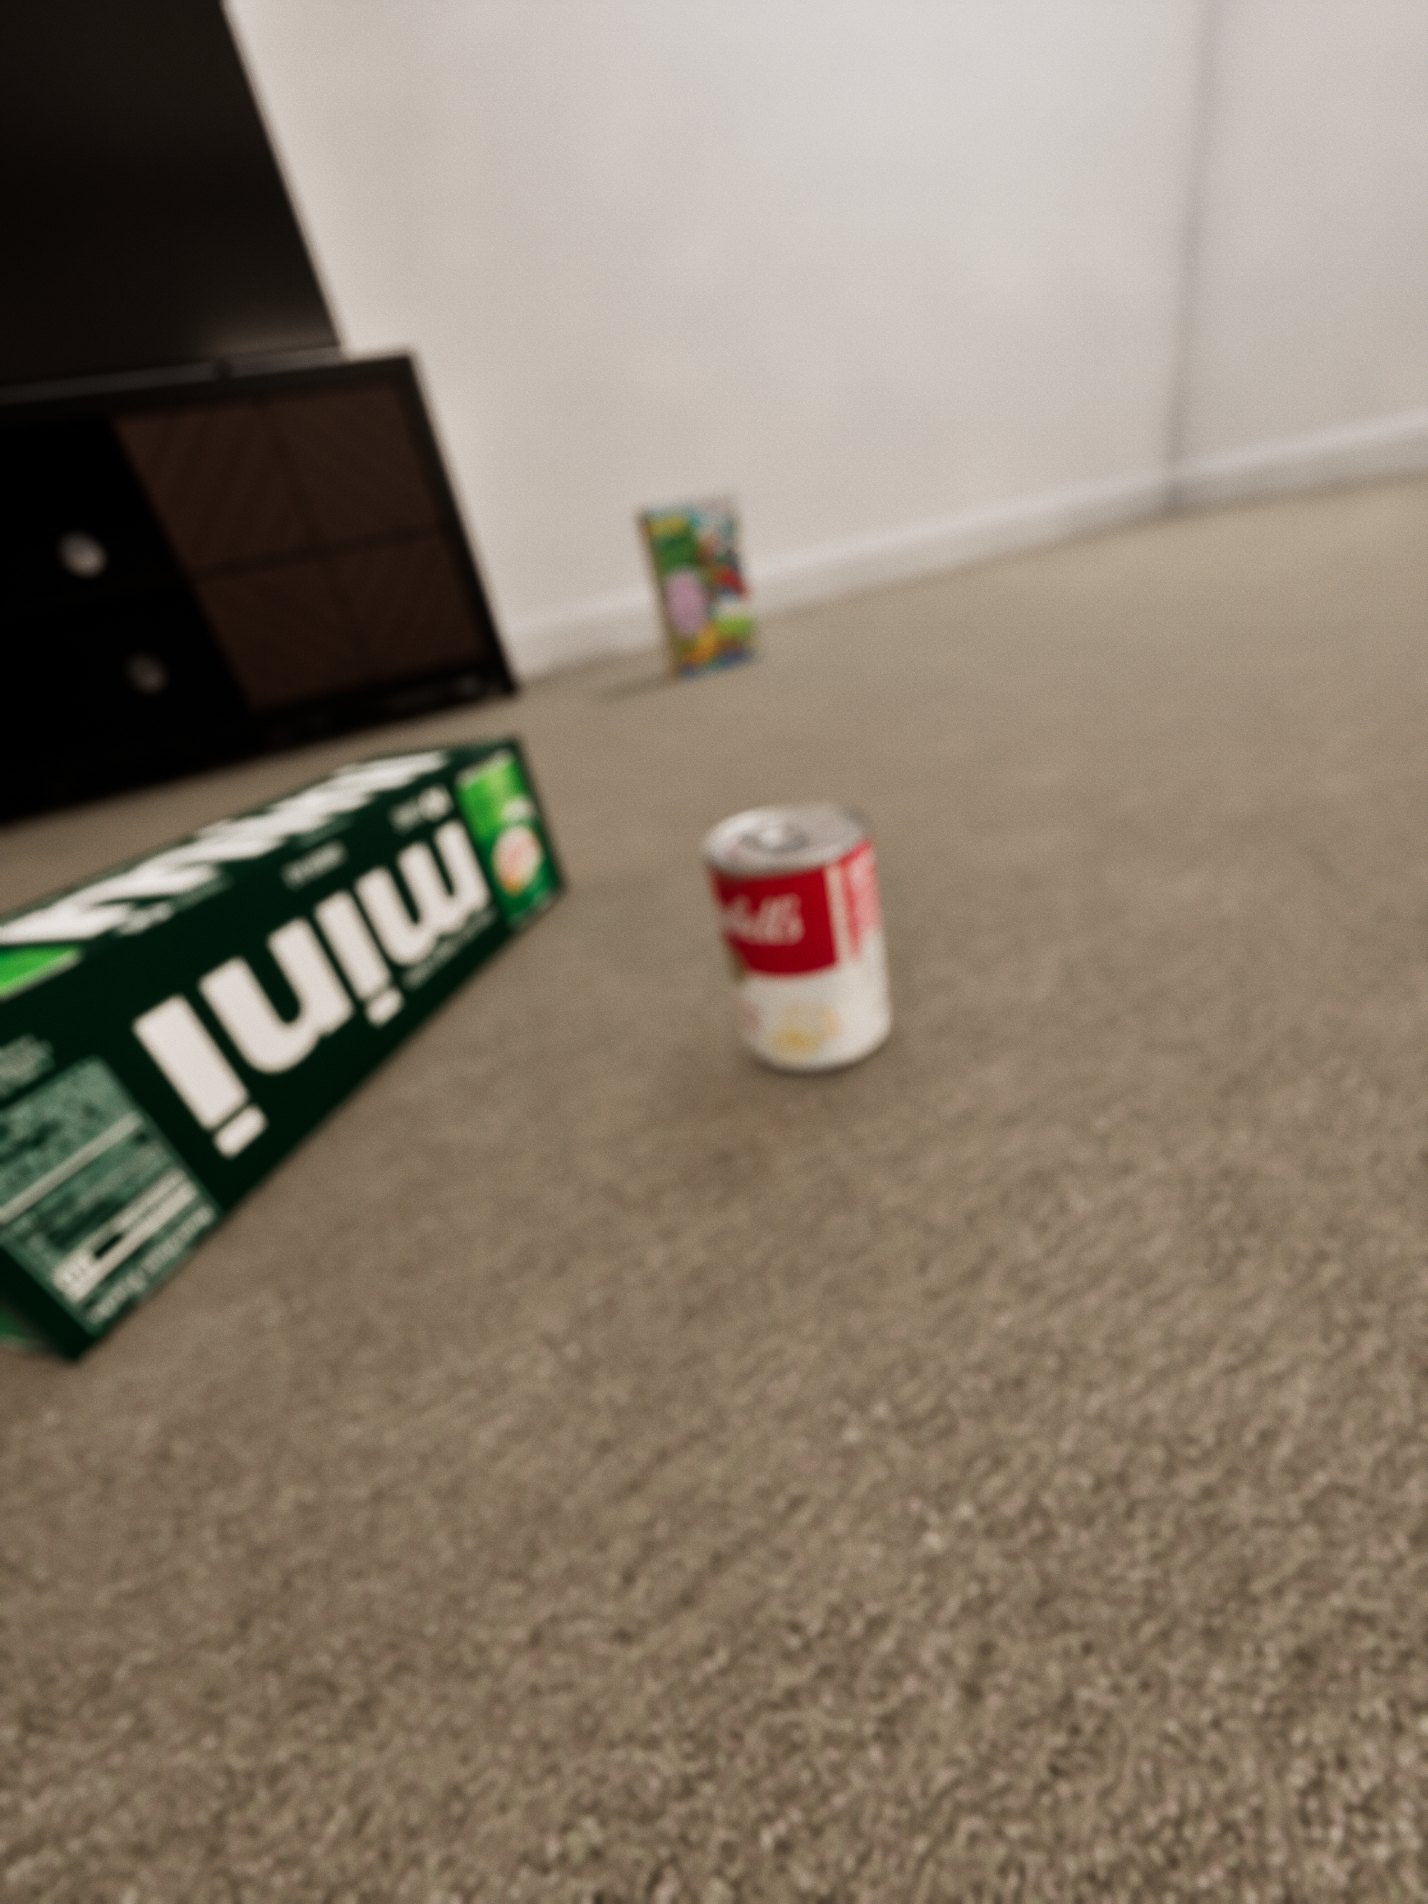soup: (703, 806, 887, 1074)
